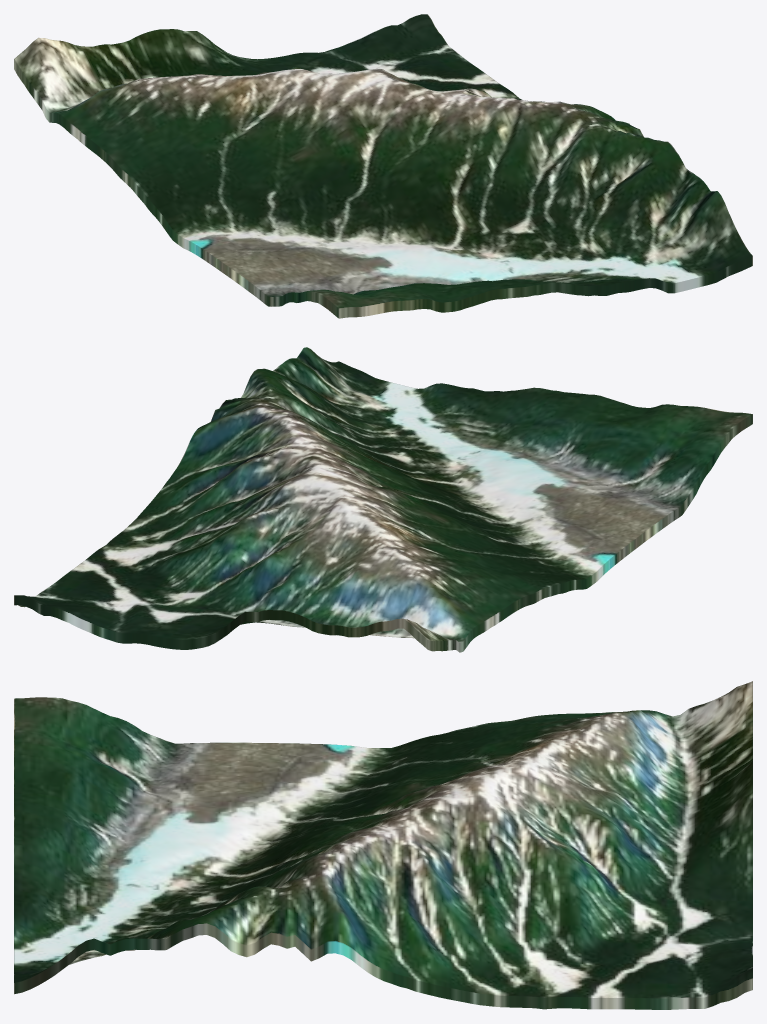
The picture shows the model from 3 angles, top to bottom: view 1: azimuth 30°, elevation 25°; view 2: azimuth 150°, elevation 25°; view 3: azimuth 270°, elevation 25°; orthographic projection. The views are drawn at different scales.
Visible parts, largest first — view 1: tile; view 2: tile; view 3: tile.
Boxes of the visible parts, x1,y1,x2,y2 form: tile: (14,14,752,318); tile: (14,347,752,652); tile: (14,681,752,1009).
Size of the model in its own units: 4050 by 960 by 5505.
1 material, 1 textured.
